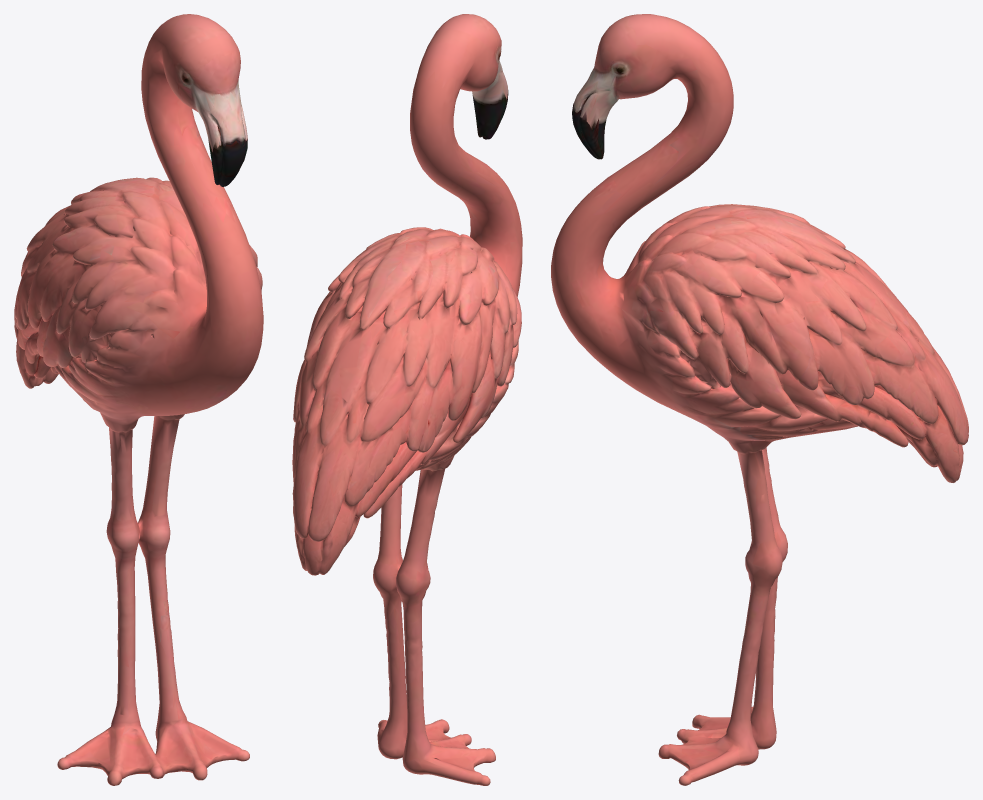
3 views of the same model, side by side, from view 1: azimuth 30°, elevation 25°; view 2: azimuth 150°, elevation 25°; view 3: azimuth 270°, elevation 25° (orthographic). The views are drawn at different scales.
Bounding box in the file's own units: 0.4705 × 1.9 × 0.9777.
Materials: 1 (1 with a texture image).
